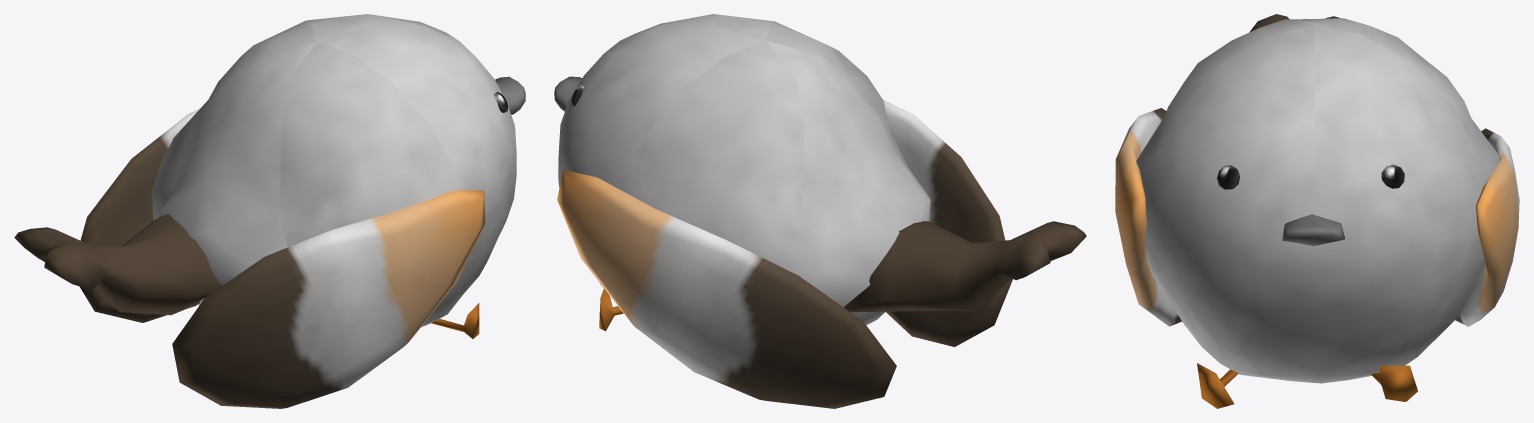
The model's file is BirdPlushie.fbx.
3 renders of one model, left to right at view 1: azimuth 30°, elevation 25°; view 2: azimuth 150°, elevation 25°; view 3: azimuth 270°, elevation 25°, orthographic. The views are drawn at different scales.
Parts seen in each view (by area): view 1: BirdPlushie; view 2: BirdPlushie; view 3: BirdPlushie.
Boxes of the visible parts, x1,y1,x2,y2 form: BirdPlushie: (14,14,525,408); BirdPlushie: (554,14,1086,408); BirdPlushie: (1115,14,1519,408).
Size of the model in its own units: 111 by 66.89 by 71.56.
